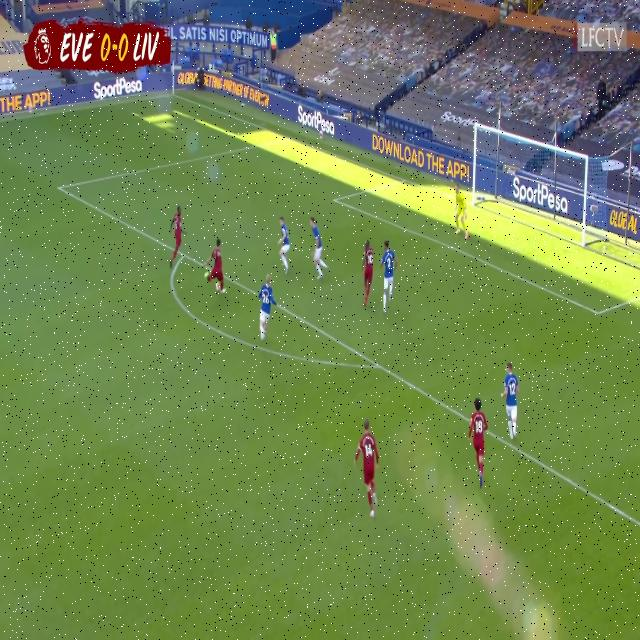Ball: (214, 278, 221, 294)
TEAM 1: (354, 419, 380, 518), (467, 398, 488, 488), (500, 364, 520, 441), (205, 237, 226, 296), (362, 241, 376, 310), (170, 205, 185, 266)
TEAM 2: (258, 272, 278, 340), (307, 216, 327, 284), (379, 240, 397, 314), (453, 187, 471, 240), (278, 216, 292, 276)
